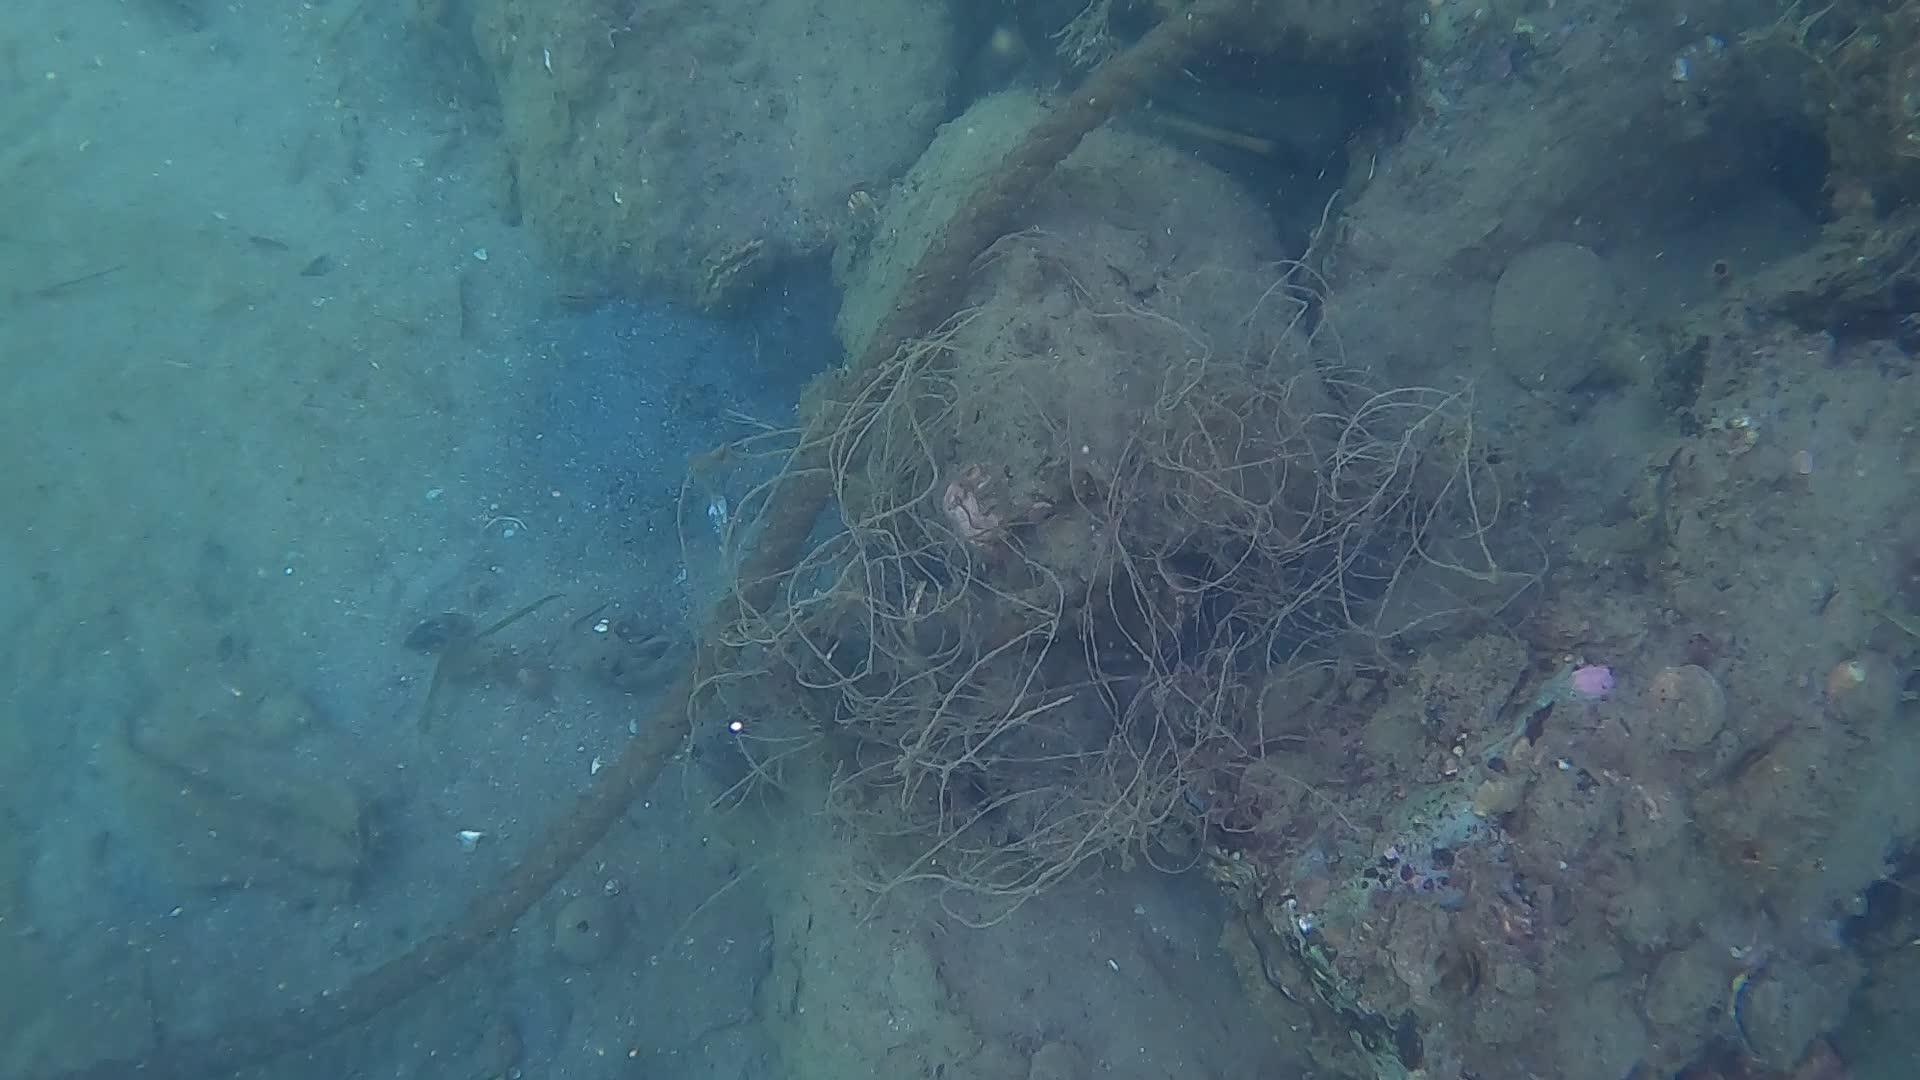rope: (70, 0, 1266, 1080)
